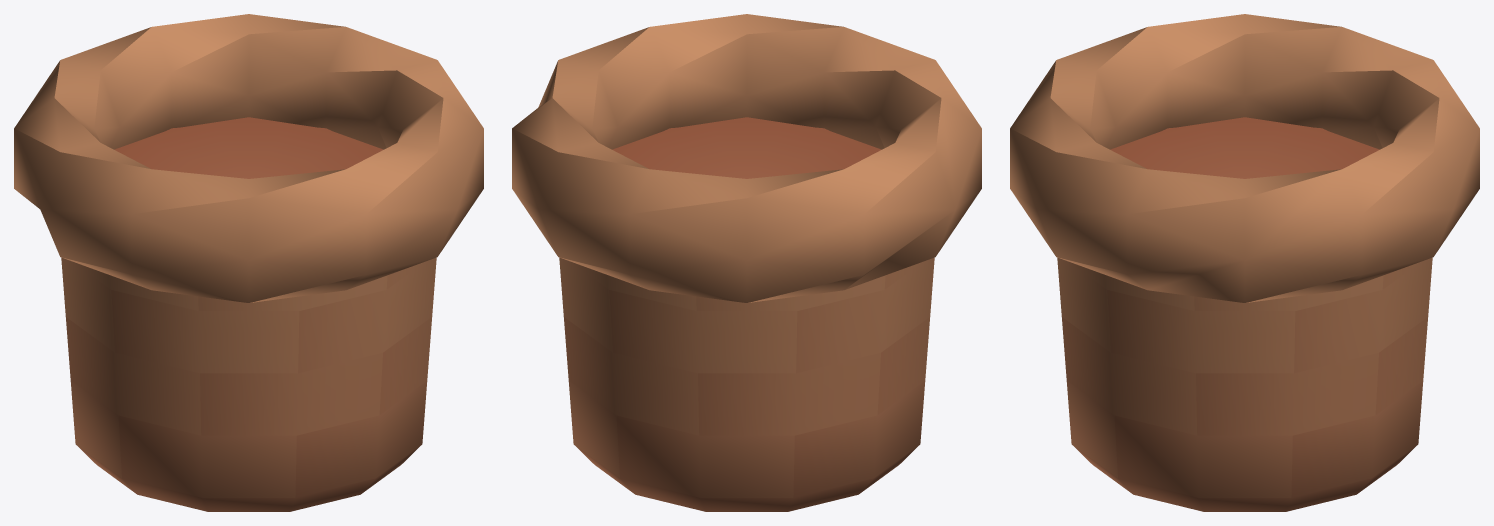
Rendered from Pot C Small.glb.
3 renders of one model, left to right at view 1: azimuth 30°, elevation 25°; view 2: azimuth 150°, elevation 25°; view 3: azimuth 270°, elevation 25°, orthographic.
Visible parts, largest first — view 1: pot_C_small; view 2: pot_C_small; view 3: pot_C_small.
Boxes of the visible parts, <box> form: pot_C_small: <box>14,14,483,511</box>; pot_C_small: <box>512,14,981,511</box>; pot_C_small: <box>1010,14,1479,511</box>.
Bounding box in the file's own units: 0.5 × 0.4 × 0.4872.
1 material, 1 textured.
